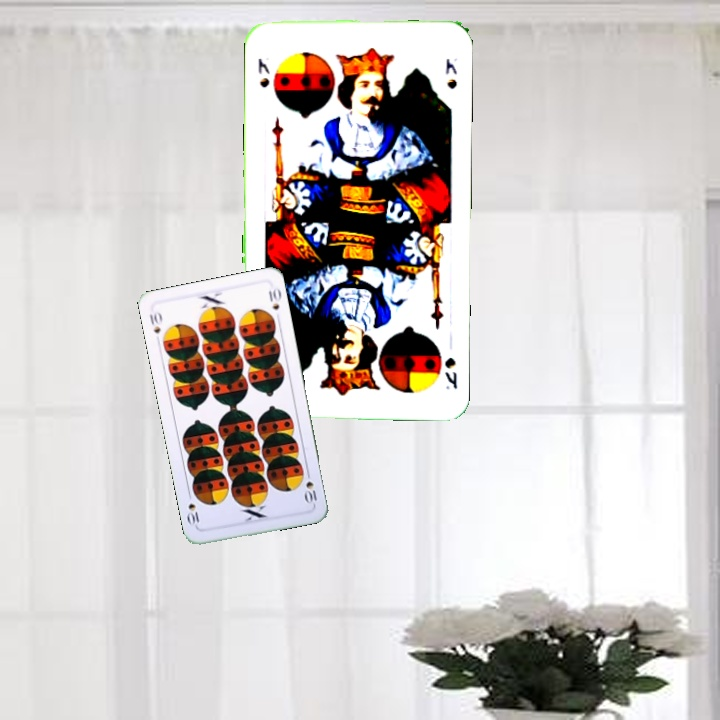S10: (301, 467, 319, 507), (145, 308, 165, 336)
SK: (441, 353, 460, 392), (254, 53, 272, 91)
